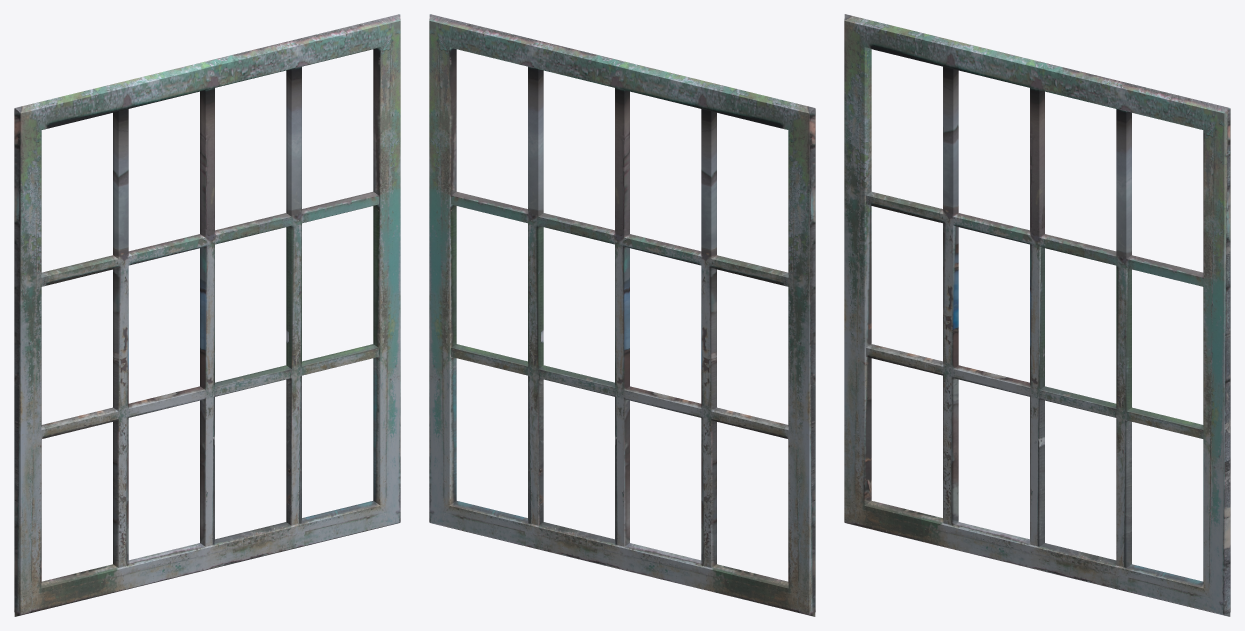
The model's file is sm_Wall_06_22_Window.fbx.
3 views of the same model, side by side, from view 1: azimuth 30°, elevation 25°; view 2: azimuth 150°, elevation 25°; view 3: azimuth 330°, elevation 25° (orthographic).
Parts seen in each view (by area): view 1: sm_Wall_06_22_Window_LOD0; view 2: sm_Wall_06_22_Window_LOD0; view 3: sm_Wall_06_22_Window_LOD0.
Part boxes in pixels (bbox=[...]): sm_Wall_06_22_Window_LOD0: bbox=[14, 14, 400, 616]; sm_Wall_06_22_Window_LOD0: bbox=[429, 14, 815, 616]; sm_Wall_06_22_Window_LOD0: bbox=[844, 14, 1230, 616].
Size of the model in its own units: 4.98 by 172 by 217.
